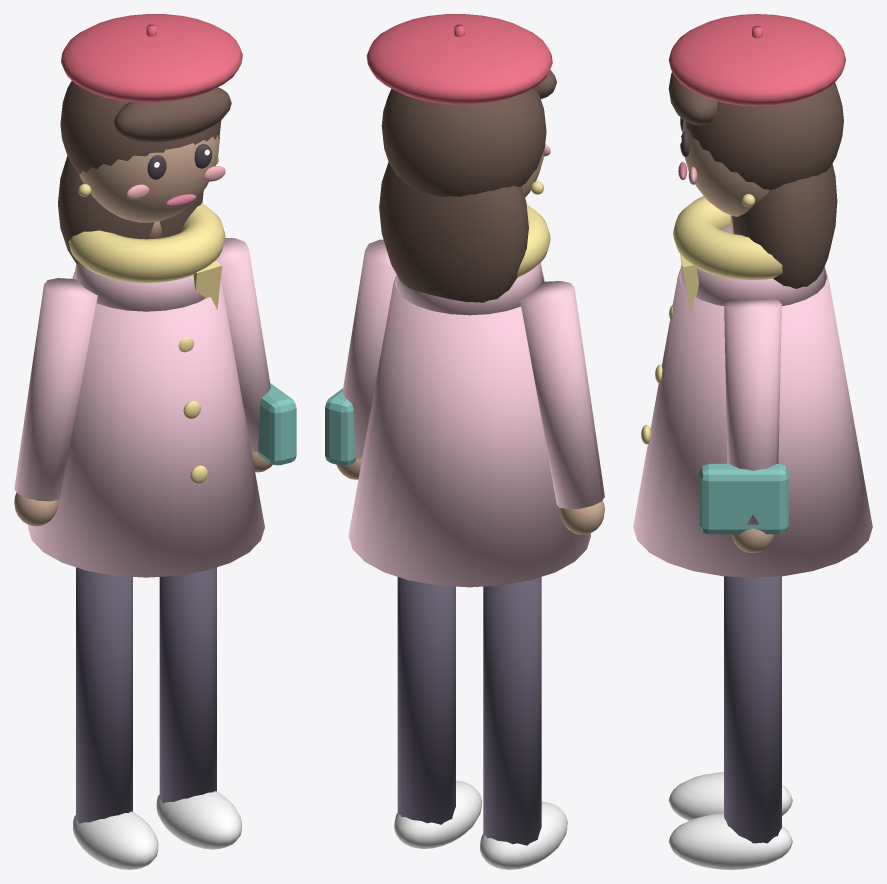
Rendered from lua.glb.
3 renders of one model, left to right at view 1: azimuth 30°, elevation 25°; view 2: azimuth 150°, elevation 25°; view 3: azimuth 270°, elevation 25°, orthographic. The views are drawn at different scales.
Parts seen in each view (by area): view 1: Coat, LegRMesh, LegLMesh, Beret, ArmRSleeve, Scarf, Head, ArmLSleeve, HairCap, Bangs, HairBack, LegLShoe (+5 smaller); view 2: Coat, LegRMesh, HairBack, HairCap, LegLMesh, Beret, ArmRSleeve, ArmLSleeve, LegRShoe, LegLShoe, CoatTop, Bag (+2 smaller); view 3: Coat, LegLMesh, Beret, HairCap, ArmLSleeve, HairBack, Bag, Scarf, LegLShoe, Head, CoatTop, LegRShoe (+3 smaller).
Boxes of the visible parts, left/top/right/bottom form: Coat: left=28, top=272, right=264, bottom=577; LegRMesh: left=76, top=567, right=132, bottom=823; LegLMesh: left=159, top=567, right=216, bottom=803; Beret: left=61, top=14, right=242, bottom=102; ArmRSleeve: left=14, top=278, right=97, bottom=501; Scarf: left=68, top=203, right=225, bottom=282; Head: left=79, top=135, right=219, bottom=222; ArmLSleeve: left=216, top=238, right=270, bottom=451; HairCap: left=60, top=81, right=221, bottom=174; Bangs: left=114, top=87, right=231, bottom=142; HairBack: left=58, top=155, right=203, bottom=264; LegLShoe: left=156, top=791, right=241, bottom=849; Coat: left=348, top=275, right=590, bottom=587; LegRMesh: left=483, top=577, right=541, bottom=845; HairBack: left=379, top=162, right=528, bottom=302; HairCap: left=381, top=87, right=546, bottom=196; LegLMesh: left=397, top=577, right=455, bottom=824; Beret: left=366, top=14, right=552, bottom=104; ArmRSleeve: left=519, top=281, right=604, bottom=509; ArmLSleeve: left=342, top=239, right=396, bottom=458; LegRShoe: left=480, top=801, right=567, bottom=869; LegLShoe: left=394, top=780, right=481, bottom=848; CoatTop: left=395, top=263, right=544, bottom=315; Bag: left=325, top=388, right=356, bottom=465; Coat: left=633, top=269, right=872, bottom=577; LegLMesh: left=724, top=576, right=781, bottom=843; Beret: left=668, top=14, right=845, bottom=106; HairCap: left=685, top=83, right=843, bottom=190; ArmLSleeve: left=724, top=299, right=781, bottom=524; HairBack: left=732, top=163, right=837, bottom=288; Bag: left=699, top=463, right=788, bottom=534; Scarf: left=673, top=196, right=782, bottom=279; LegLShoe: left=668, top=813, right=792, bottom=869; Head: left=682, top=120, right=769, bottom=216; CoatTop: left=679, top=225, right=826, bottom=305; LegRShoe: left=668, top=772, right=792, bottom=820.
Size of the model in its own units: 0.68 by 2.04 by 0.54.
